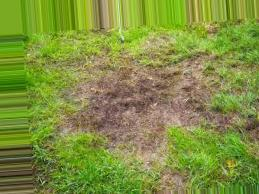patch: (105, 80, 152, 131), (159, 83, 187, 126), (78, 112, 99, 133), (168, 69, 191, 88), (108, 66, 132, 79), (85, 79, 96, 97), (124, 137, 138, 150)
